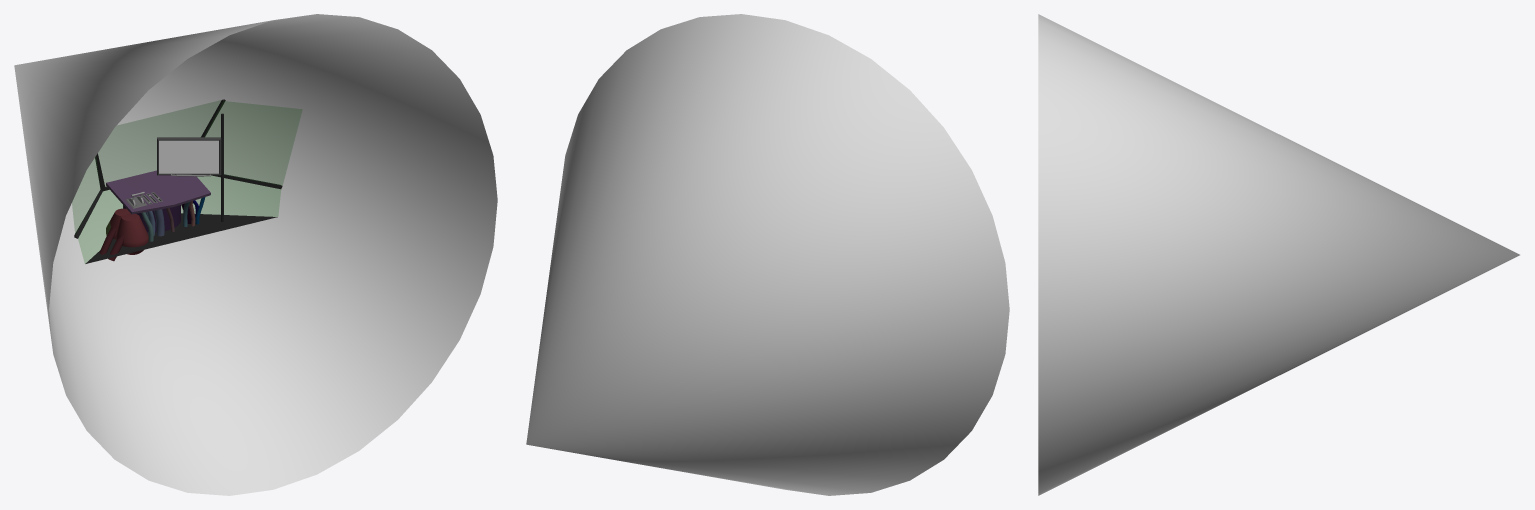
Rendered from Pod GUI.fbx.
3 views of the same model, side by side, from view 1: azimuth 30°, elevation 25°; view 2: azimuth 150°, elevation 25°; view 3: azimuth 270°, elevation 25° (orthographic). The views are drawn at different scales.
Parts seen in each view (by area): view 1: SpeedCone, Cockpit, MonitorOverlay, Monitor; view 2: SpeedCone; view 3: SpeedCone.
Part boxes in pixels (x1,y1,x2,y2): SpeedCone: (14,14,497,495); Cockpit: (72,99,301,263); MonitorOverlay: (159,140,218,173); Monitor: (157,113,223,221); SpeedCone: (526,14,1009,495); SpeedCone: (1038,14,1519,495).
Bounding box in the file's own units: 1780 × 1780 × 1780.
